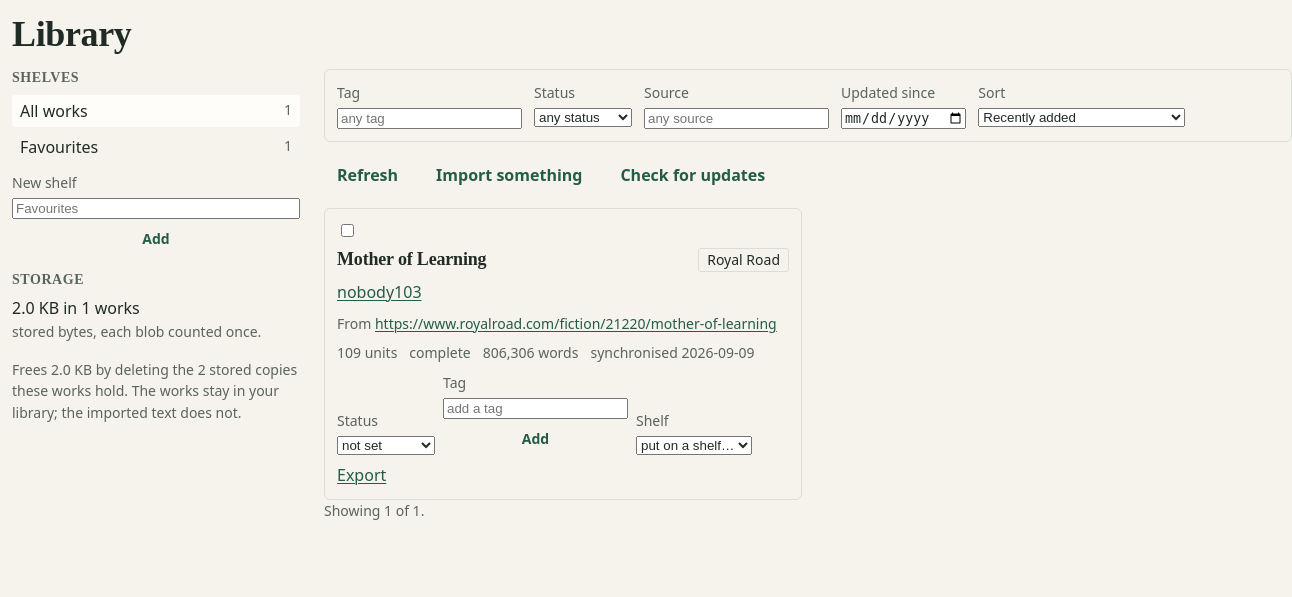
Scenario: the library page › queues an update check as a background job
Step 1. Click the button "Check for updates" → (693, 175), box 607,154 -> 778,196
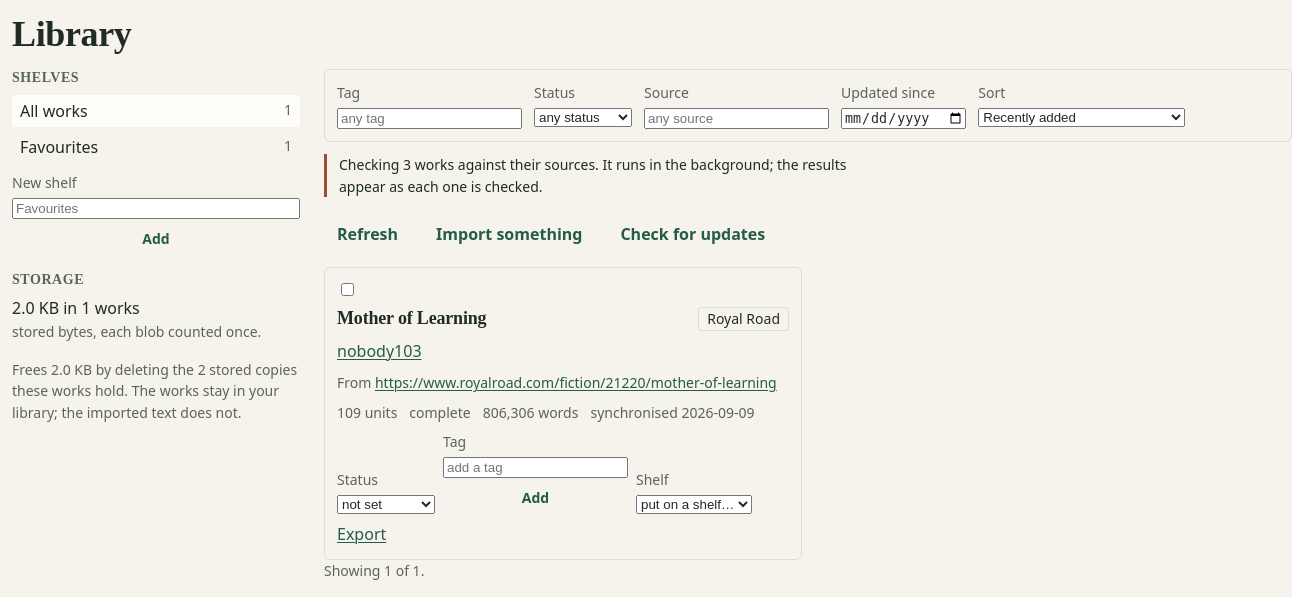
Expected: the text "It runs in the background" is shown, 339,155 -> 846,196
